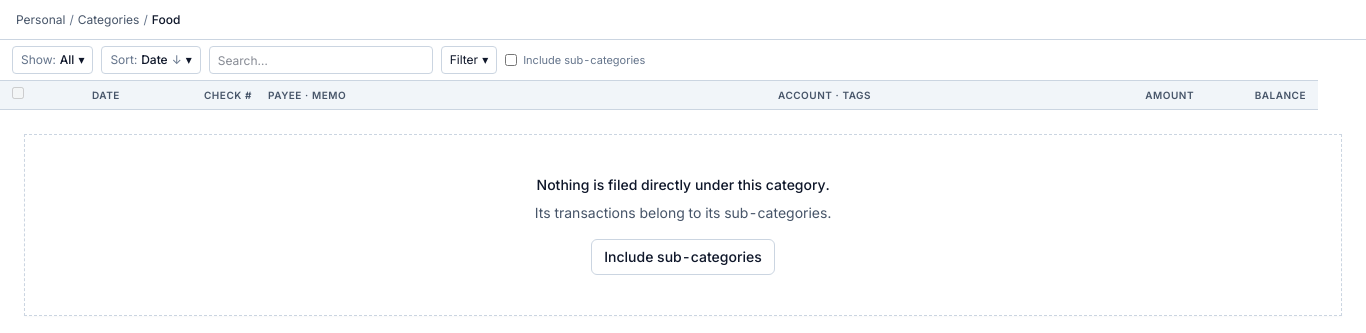
BankRegisterPage › a category register › tells a parent its money is on its children, and widens on request
Check: the text "Nothing is filed directly under this category." is shown, box [537,176,830,193]
Click the button "Include sub-categories": click(683, 257) [591,239,775,275]
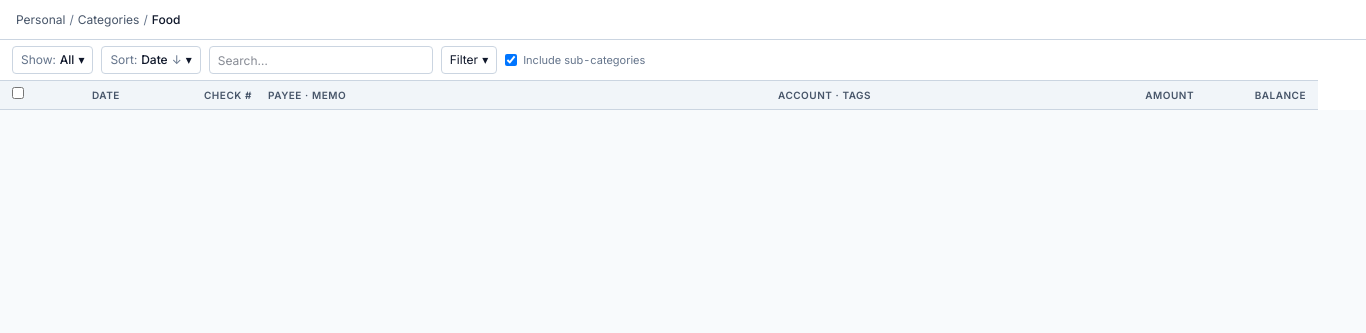
Check: the checkbox labelled "Include sub-categories" is checked, box [505,54,517,66]
